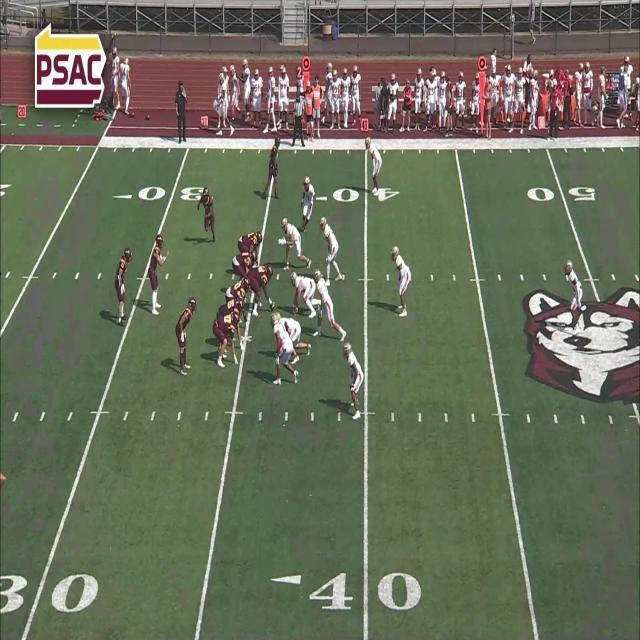football: (268, 302, 274, 312)
